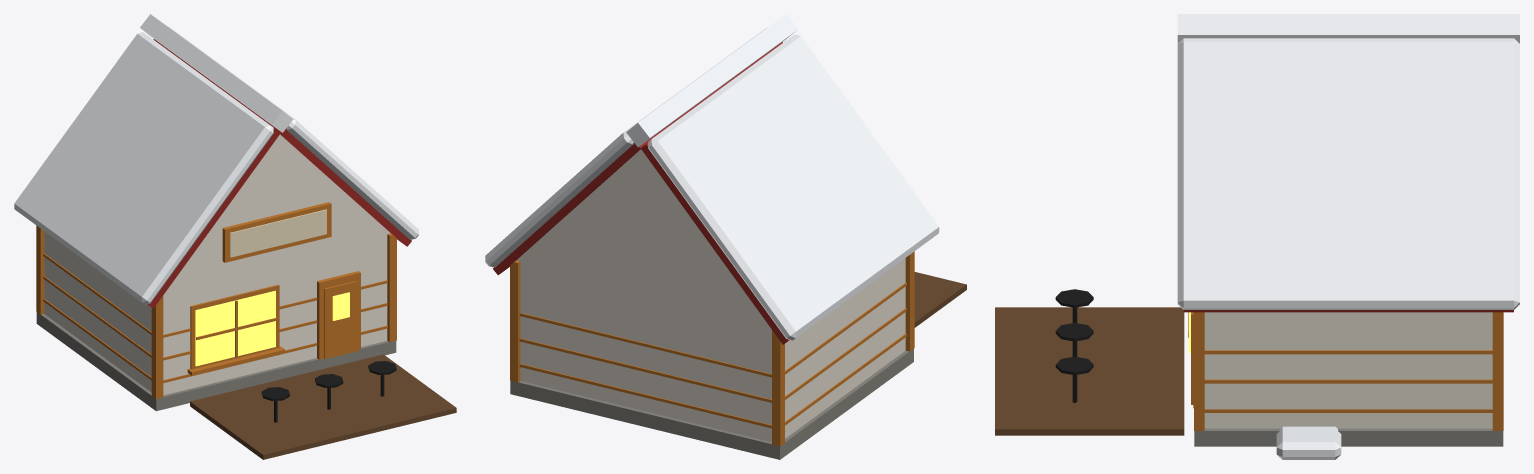
The model's file is cafe-sugarhouse.glb.
The picture shows the model from 3 angles, left to right: view 1: azimuth 30°, elevation 25°; view 2: azimuth 150°, elevation 25°; view 3: azimuth 270°, elevation 25°; orthographic projection. The views are drawn at different scales.
Parts seen in each view (by area): view 1: cafe-sugarhouse; view 2: cafe-sugarhouse; view 3: cafe-sugarhouse.
Boxes of the visible parts, x1,y1,x2,y2 form: cafe-sugarhouse: [14, 14, 456, 459]; cafe-sugarhouse: [485, 14, 966, 459]; cafe-sugarhouse: [995, 14, 1519, 459].
Size of the model in its own units: 8.5 by 7.9 by 10.54.
